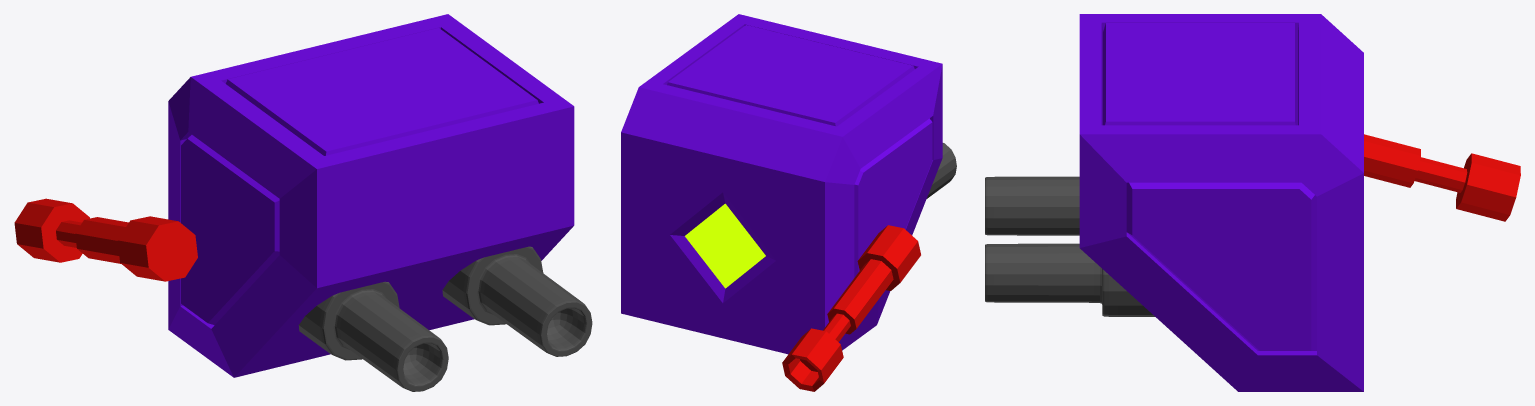
Rendered from Player.fbx.
3 renders of one model, left to right at view 1: azimuth 30°, elevation 25°; view 2: azimuth 150°, elevation 25°; view 3: azimuth 270°, elevation 25°, orthographic. The views are drawn at different scales.
Parts seen in each view (by area): view 1: Body, Object, Cannon; view 2: Body, Cannon, Lamp, Object; view 3: Body, Object, Cannon.
Part boxes in pixels (box(x1,y1,x2,y2)): Body: box(168, 14, 574, 377); Object: box(298, 246, 592, 391); Cannon: box(14, 198, 197, 281); Body: box(621, 14, 942, 354); Cannon: box(782, 225, 920, 391); Lamp: box(685, 203, 765, 288); Object: box(926, 143, 956, 198); Body: box(1079, 14, 1363, 391); Object: box(985, 176, 1154, 316); Cannon: box(1364, 134, 1520, 221).
Bounding box in the file's own units: 270 × 201 × 377.
